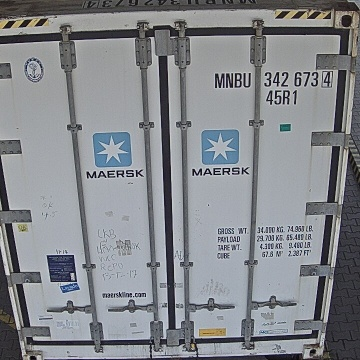serial_id: (215, 70, 332, 87)
